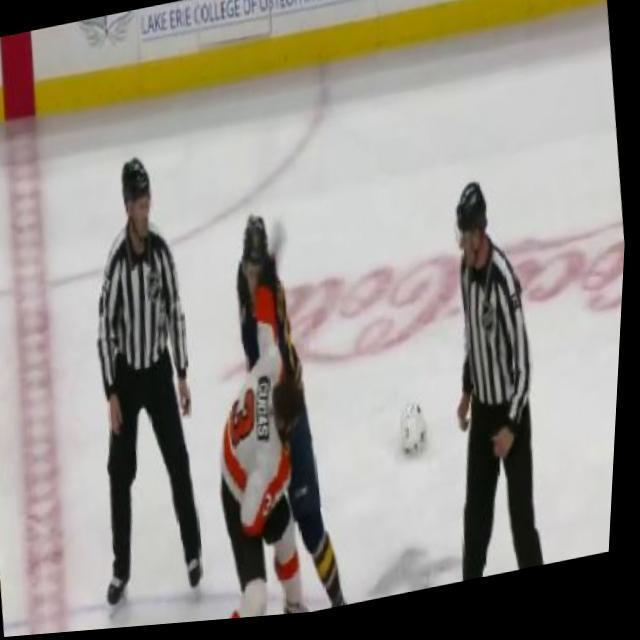fight: (180, 196, 380, 627)
